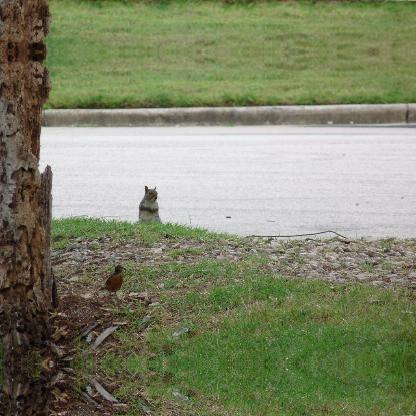Squirrel: (134, 184, 162, 222)
